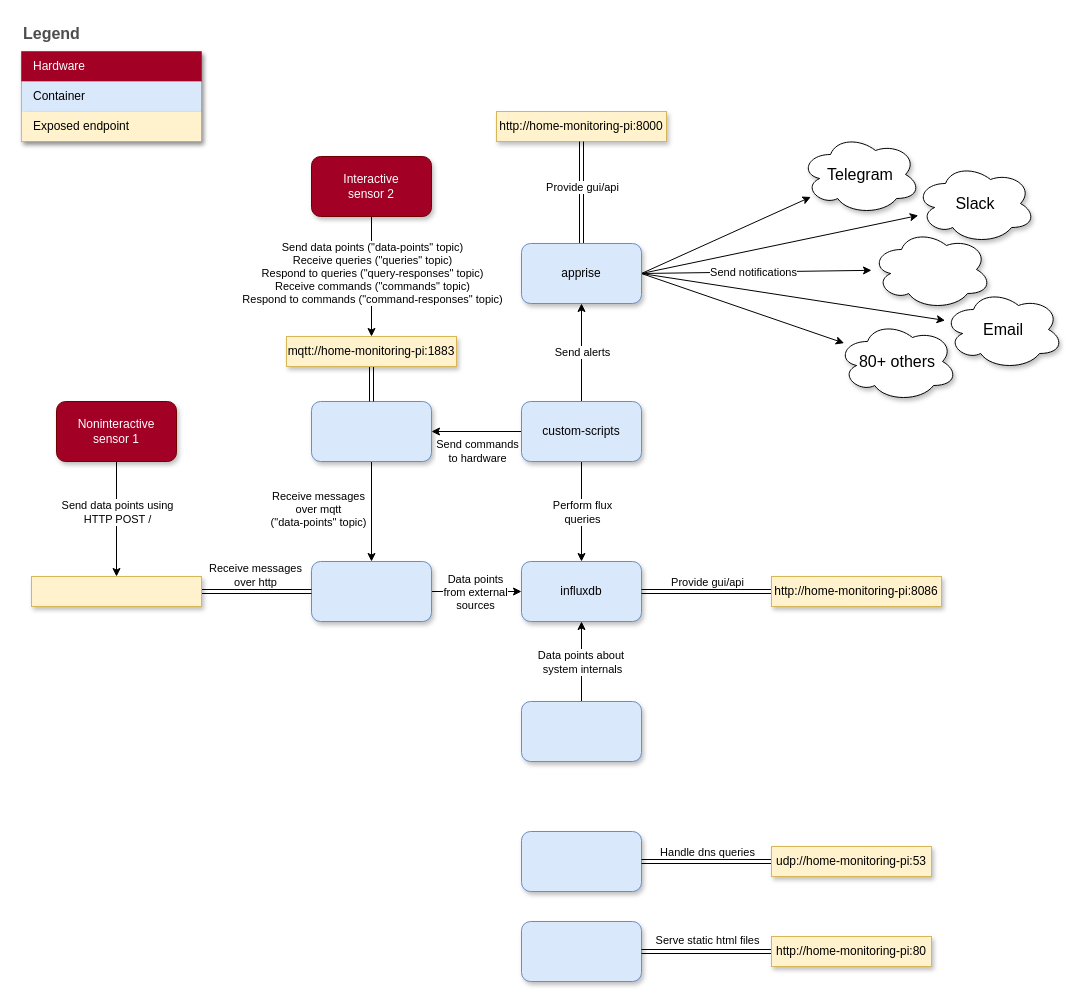
Some shapes in this 1087 by 1006 pixel diagram are drawn without their labels. Here are the shapes that lost their labels. From the top down, the centre of each, then its label:
At (932,270): "Discord".
At (372,432): "mqtt-broker".
At (117,593): "http://home-monitoring-pi:8080".
At (372,592): "external-collector (ingests external data point messages)".
At (582,732): "telegraph".
At (582,862): "dns-server".
At (582,952): "landing-page".
